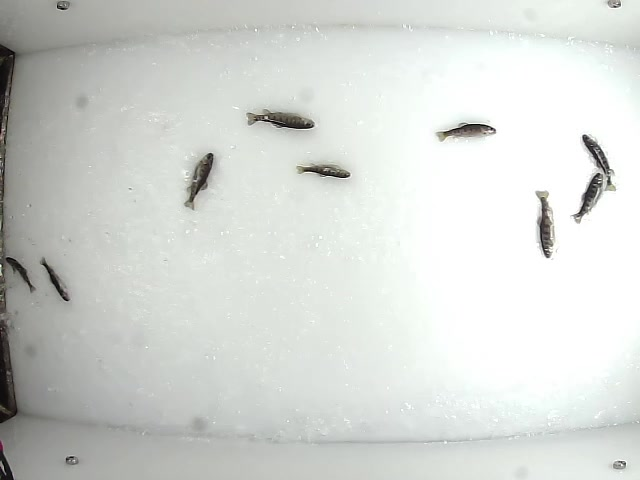fish: (581, 132, 619, 194), (180, 150, 214, 211), (570, 169, 604, 225), (242, 107, 317, 132), (37, 255, 73, 303), (535, 189, 557, 261), (434, 118, 497, 142), (2, 254, 36, 293), (295, 161, 351, 181)
